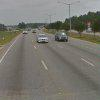Car: (32, 28, 50, 52)
